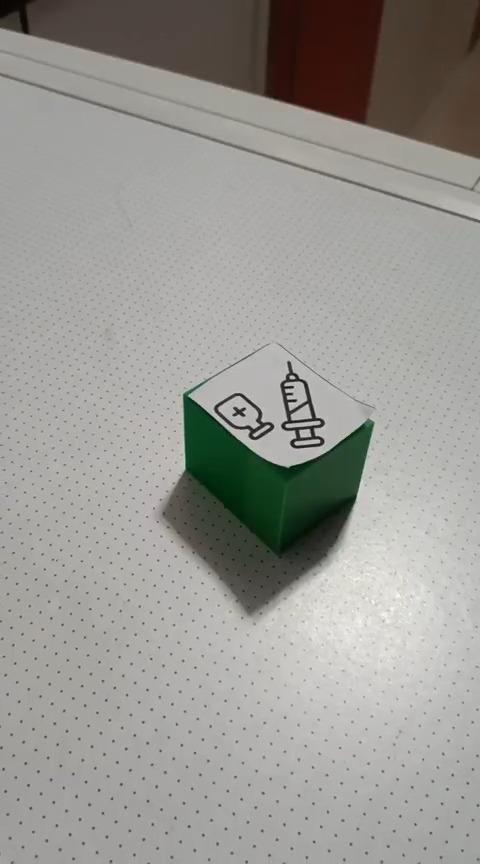antiseptic cream: (181, 339, 377, 557)
